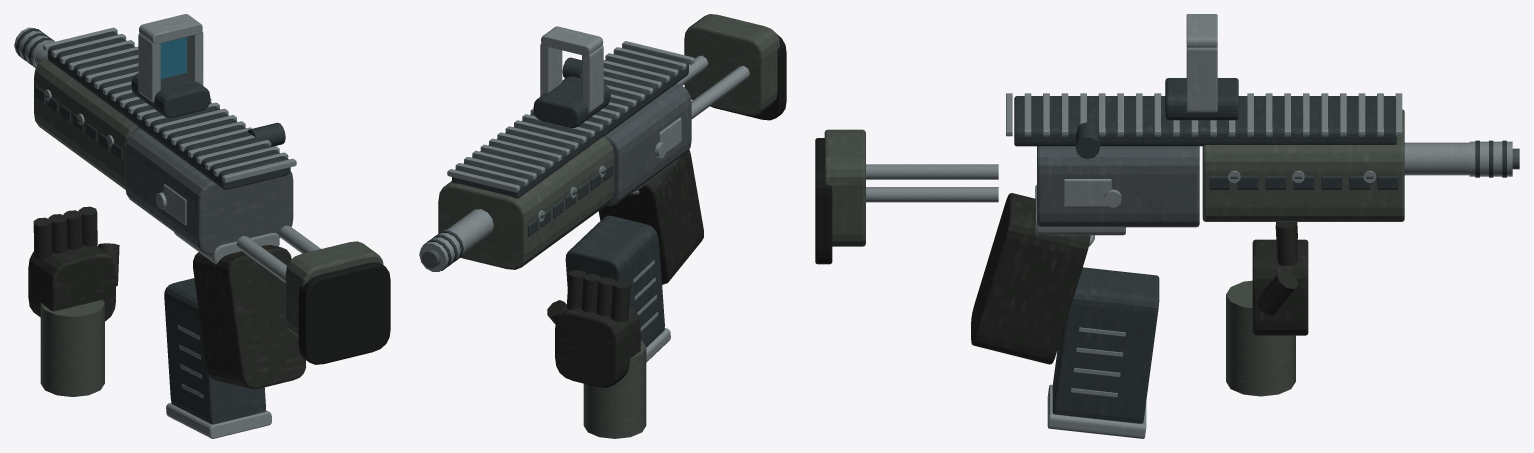
Rendered from carbine.glb.
The picture shows the model from 3 angles, left to right: view 1: azimuth 30°, elevation 25°; view 2: azimuth 150°, elevation 25°; view 3: azimuth 270°, elevation 25°; orthographic projection. The views are drawn at different scales.
Parts seen in each view (by area): view 1: first-person-carbine; view 2: first-person-carbine; view 3: first-person-carbine.
Part boxes in pixels (bbox=[...]): first-person-carbine: bbox=[14, 14, 390, 438]; first-person-carbine: bbox=[419, 14, 786, 438]; first-person-carbine: bbox=[815, 14, 1519, 438].
Bounding box in the file's own units: 0.548 × 1.23 × 1.97.
Materials: 7 (5 with a texture image).
